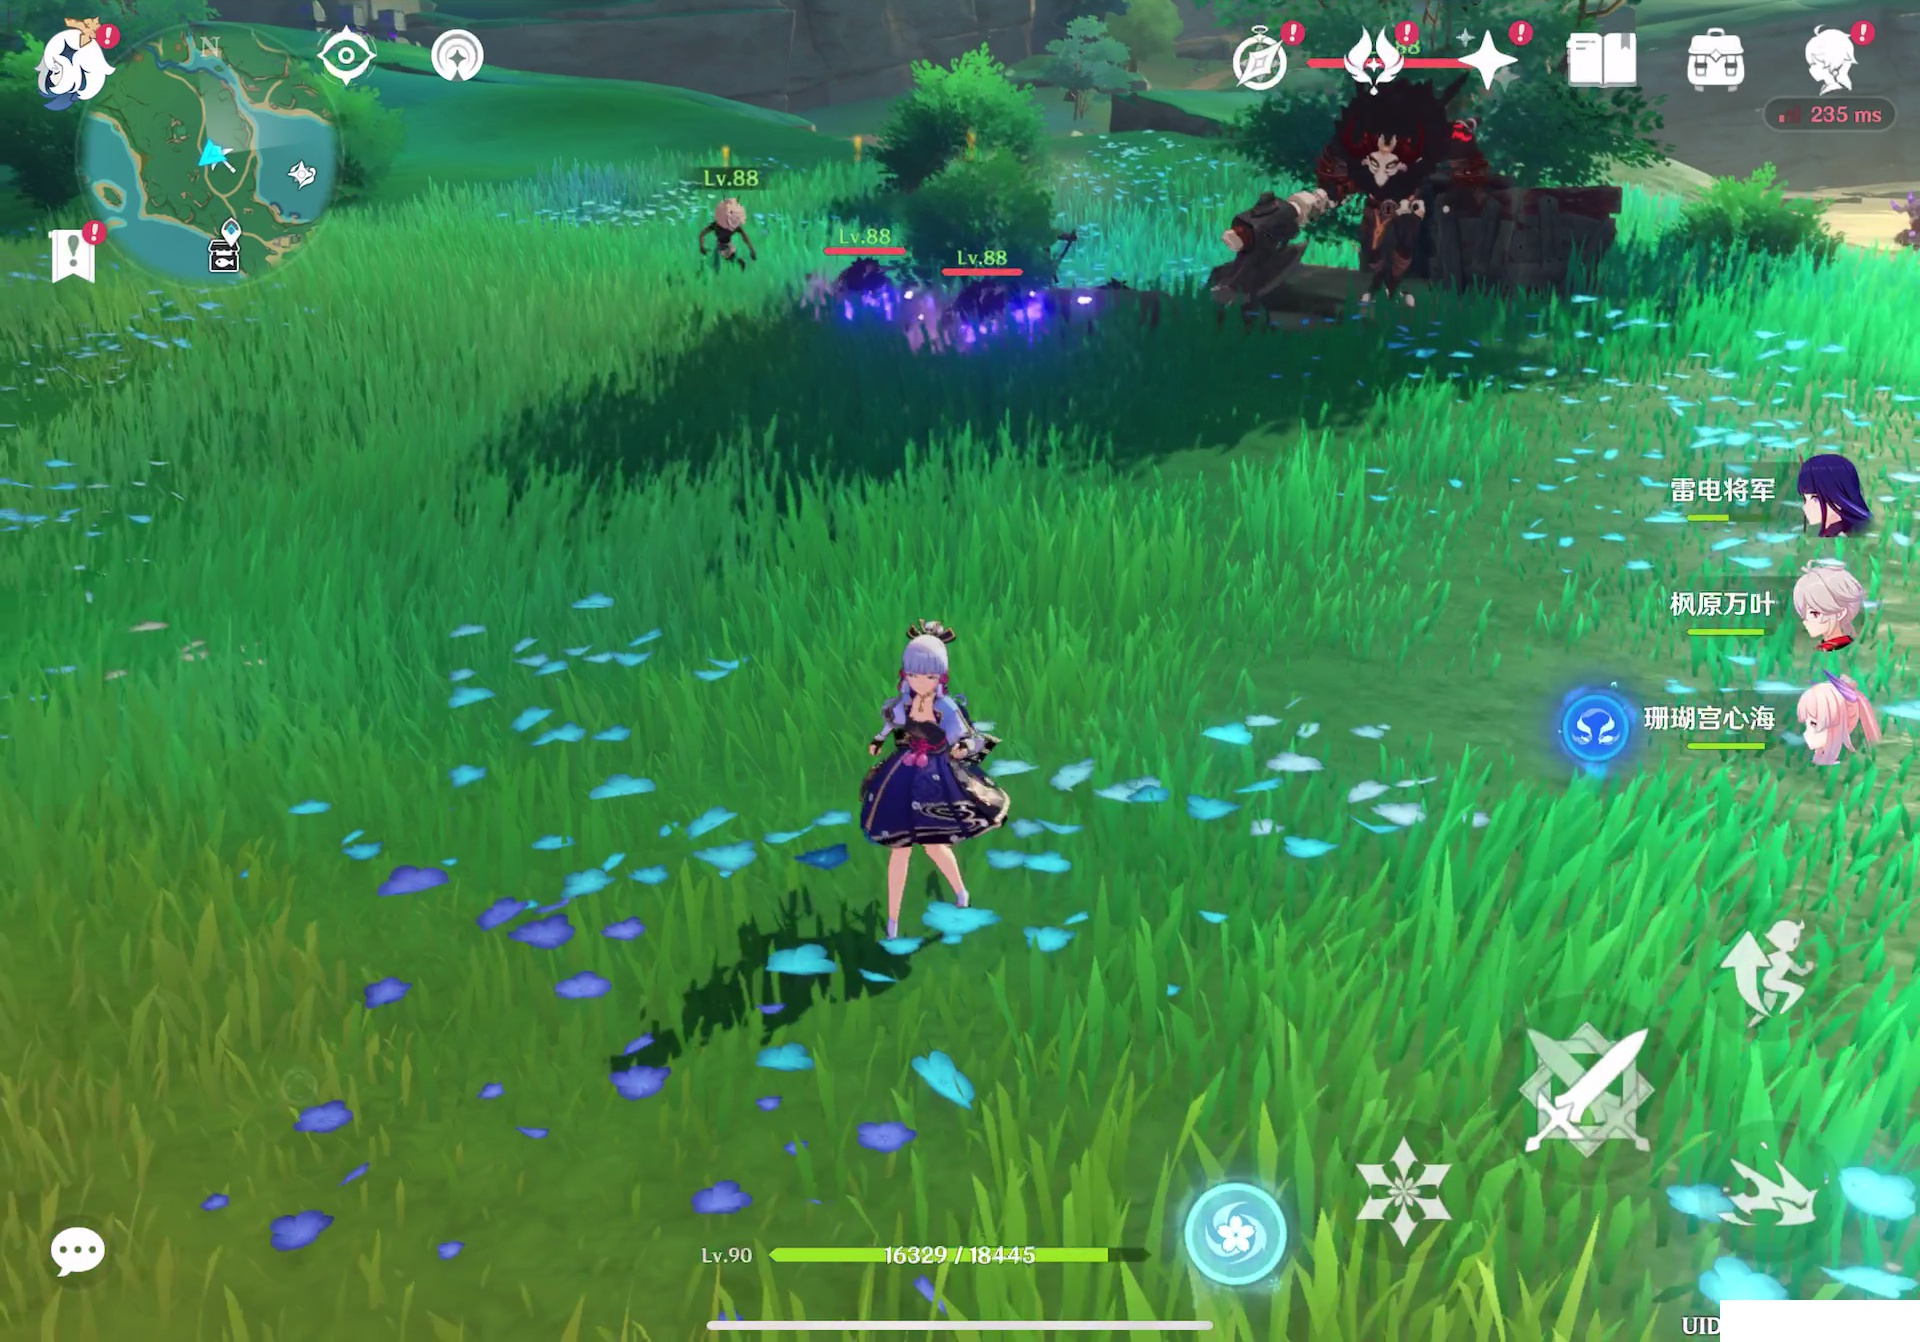NTR: (1214, 88, 1504, 314)
丘丘人: (937, 282, 1049, 353), (697, 190, 766, 282), (816, 252, 902, 324)
神里绫龟: (794, 591, 1056, 953)
